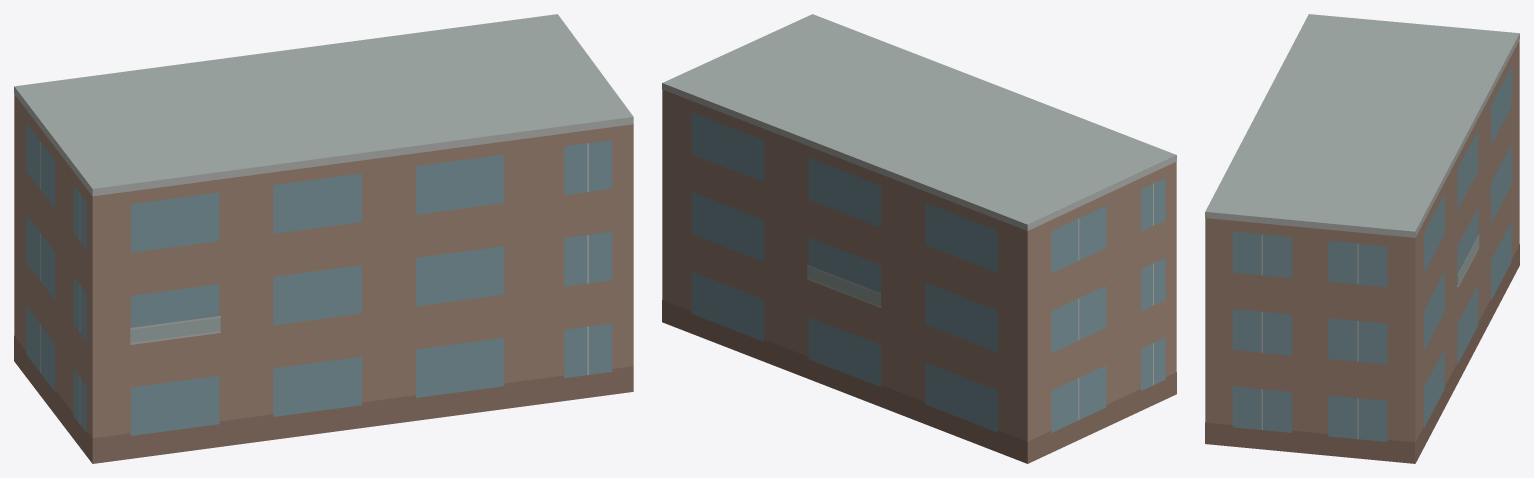
The model's file is survey-upis-32544064.glb.
The picture shows the model from 3 angles, left to right: view 1: azimuth 30°, elevation 25°; view 2: azimuth 150°, elevation 25°; view 3: azimuth 270°, elevation 25°; orthographic projection. The views are drawn at different scales.
Parts seen in each view (by area): view 1: survey-upis-32544064.tmp; view 2: survey-upis-32544064.tmp; view 3: survey-upis-32544064.tmp.
Part boxes in pixels (left/top/right/bottom): survey-upis-32544064.tmp: left=14, top=14, right=633, bottom=463; survey-upis-32544064.tmp: left=662, top=14, right=1176, bottom=463; survey-upis-32544064.tmp: left=1205, top=14, right=1519, bottom=463.
Size of the model in its own units: 18.41 by 9.15 by 11.25.
